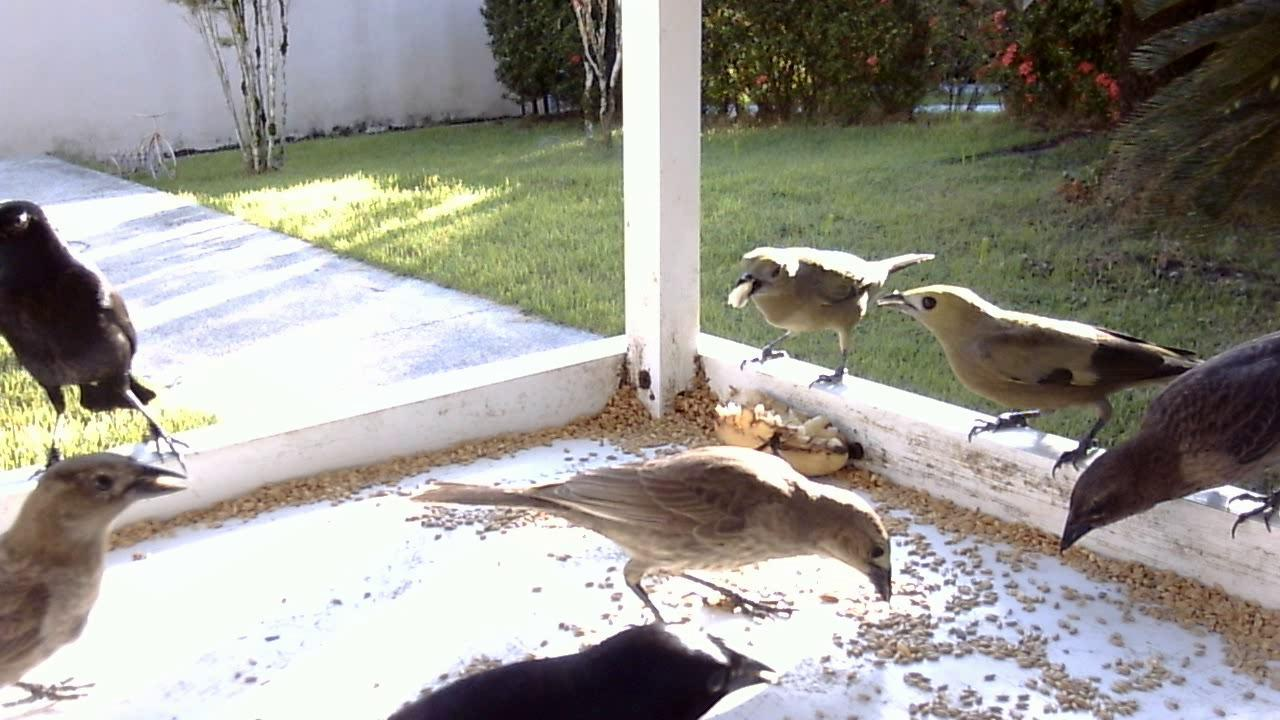chupim: (400, 434, 900, 650), (1, 178, 208, 497), (1, 448, 198, 720), (365, 590, 800, 713), (1065, 318, 1275, 571)
sanhaco_do_coqueiro: (874, 266, 1202, 491), (726, 233, 944, 401)
